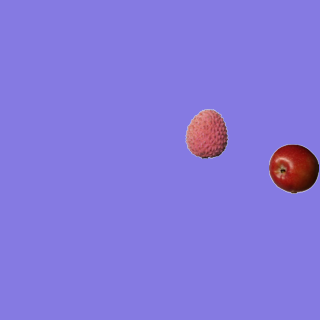Apple Braeburn: (268, 143, 318, 193)
Lychee: (181, 108, 231, 158)
